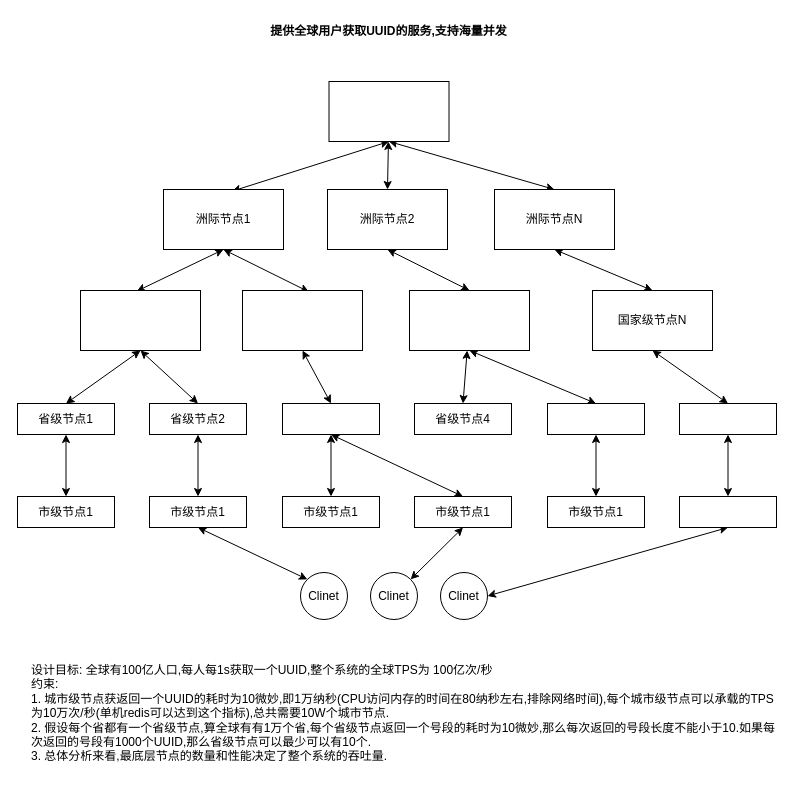
This 795x788 diagram has some shape labels left out. The centre of each missing label's shape, as x and y in pixels:
国家级节点1: (140,320)
国家级节点2: (302,320)
国家级节点3: (469,320)
定级节点: (388,111)
市级节点N: (727,512)
省级节点3: (331,418)
省级节点5: (595,418)
省级节点N: (727,418)
